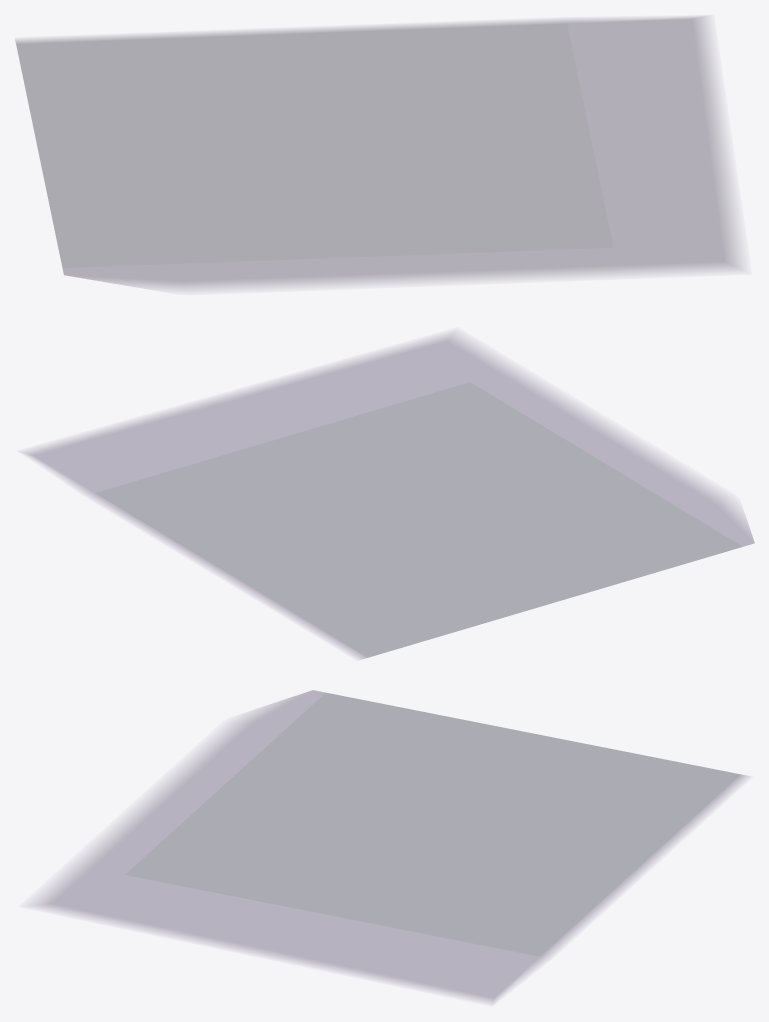
3 renders of one model, top to bottom at view 1: azimuth 30°, elevation 25°; view 2: azimuth 150°, elevation 25°; view 3: azimuth 270°, elevation 25°, orthographic. The views are drawn at different scales.
Parts seen in each view (by area): view 1: Joint_0_Object_0; view 2: Joint_0_Object_0; view 3: Joint_0_Object_0.
Part boxes in pixels (<box>): Joint_0_Object_0: <box>16,17,739,288</box>; Joint_0_Object_0: <box>24,333,754,658</box>; Joint_0_Object_0: <box>33,690,747,1002</box>.
Size of the model in its own units: 184 by 0 by 182.
1 material, 1 textured.
